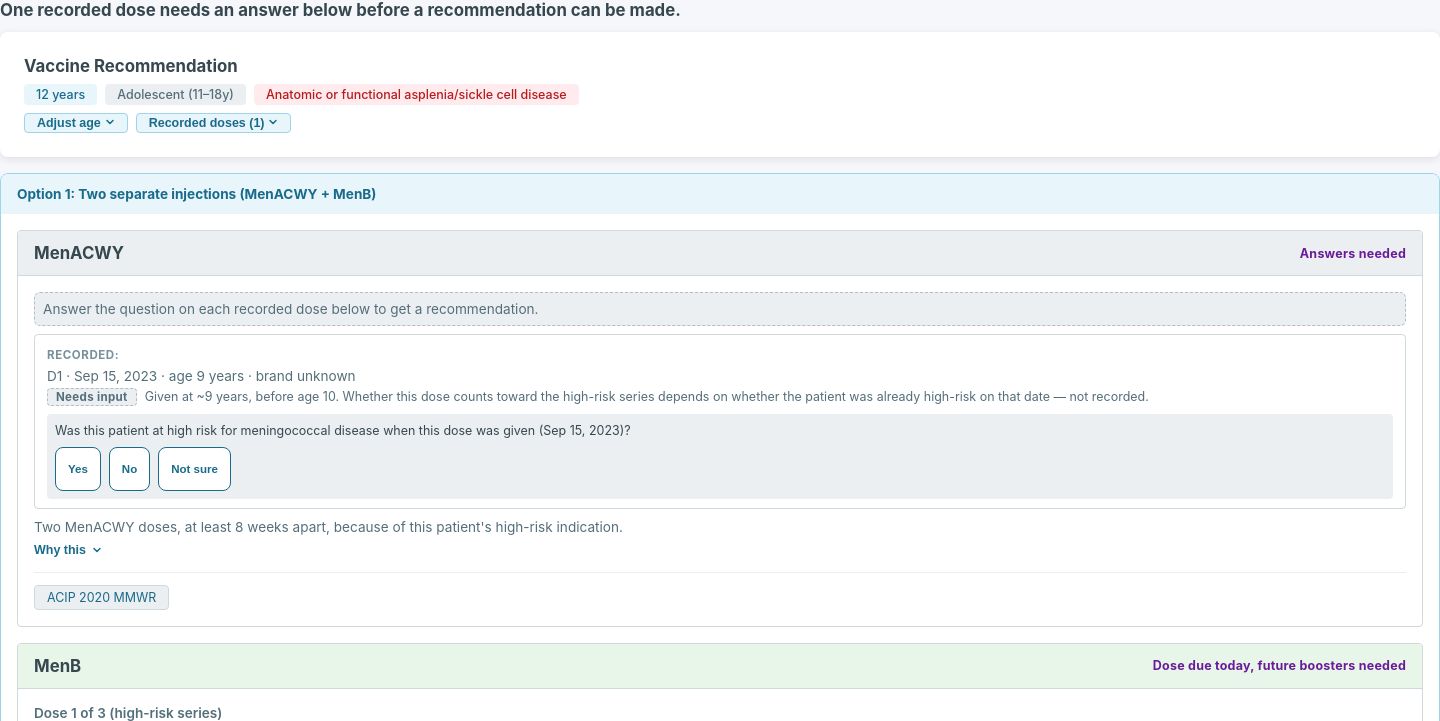
Test case: G2: a risk-at-dose answer stays with its own dose › adding an earlier dose does not hand the answered dose's "yes" to the new one
The image size is (1440, 721).
Expected: the list item with class "rec-progress-dose-row" is shown, [47,367,1393,500]
Click the button "Yes" at (78, 470), box [55,448,101,492]
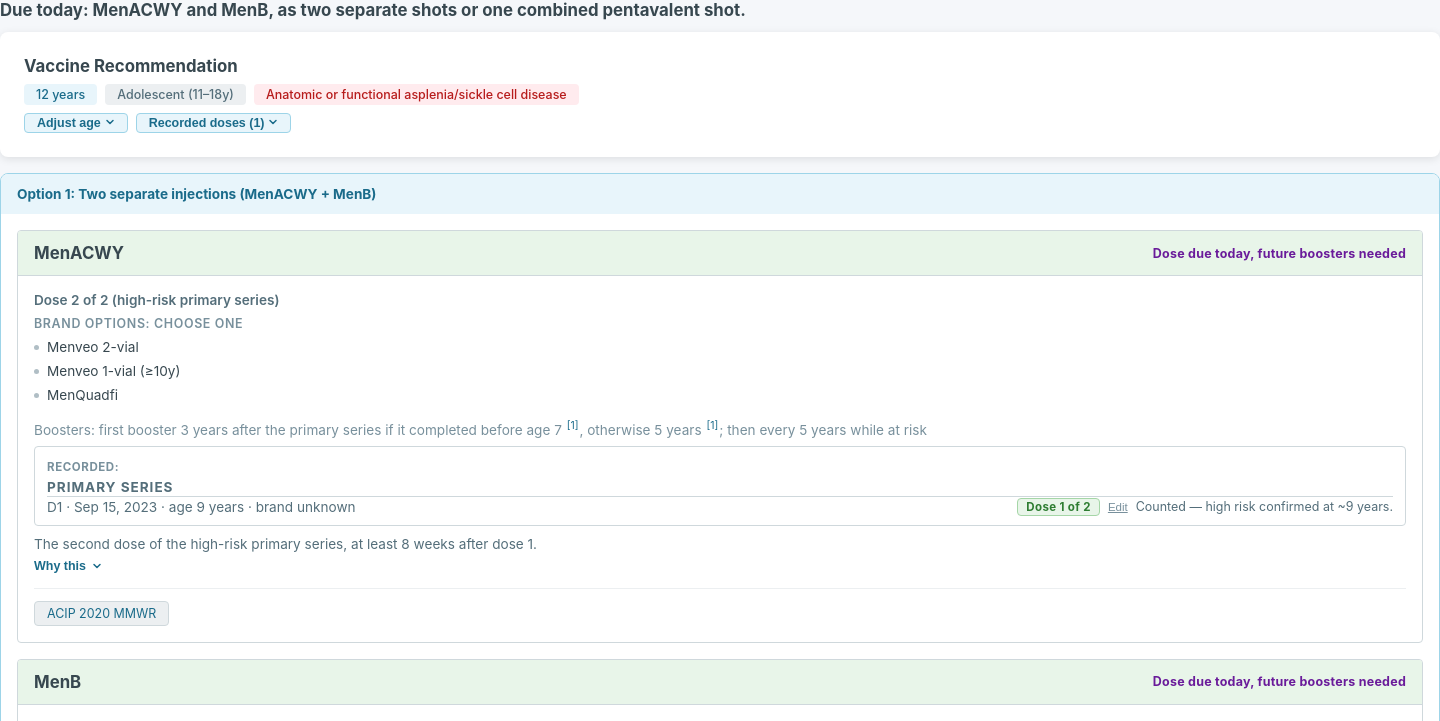
Result: the list item with class "rec-progress-dose-row" shows "high risk confirmed at ~" at [1136,499,1393,514]
Click the button "Recorded doses (1)" at (214, 123), box [136,113,292,133]
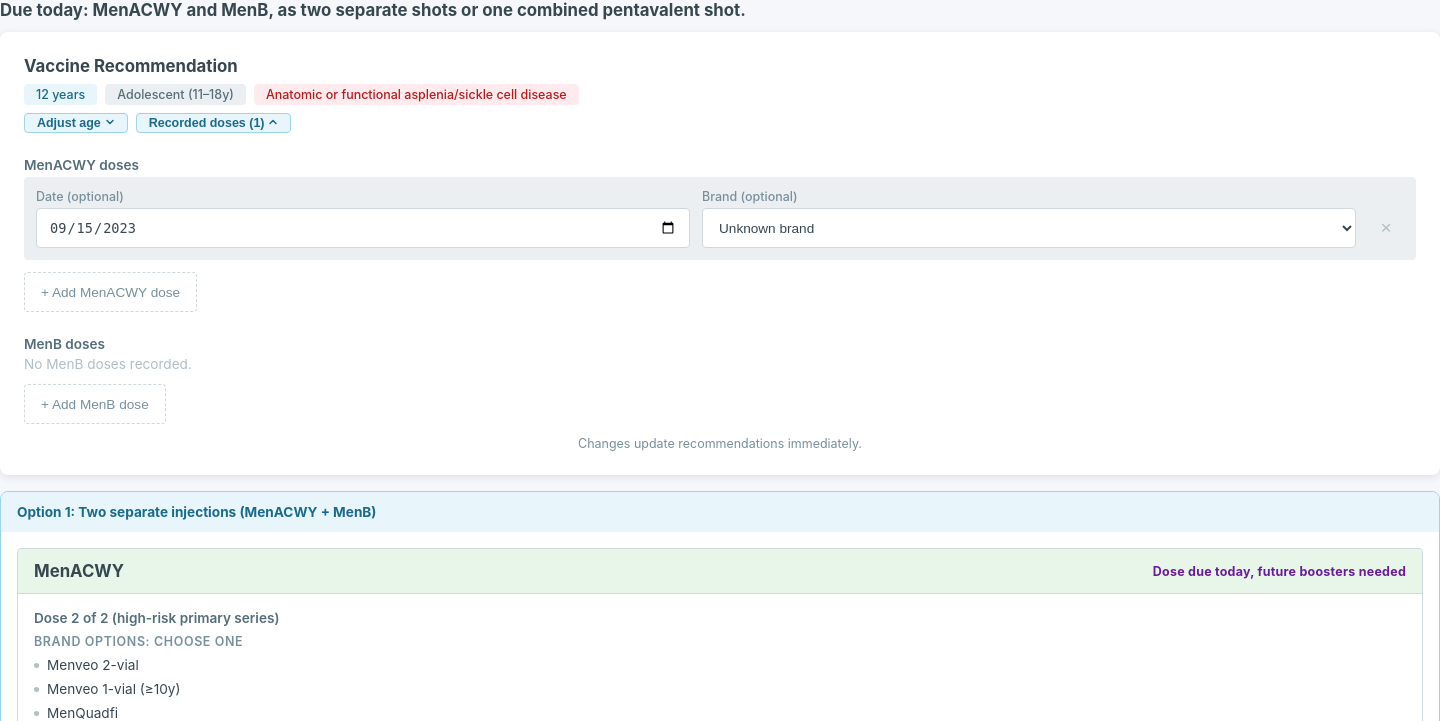
Click the button "+ Add MenACWY dose" at (111, 292), box [24,272,197,312]
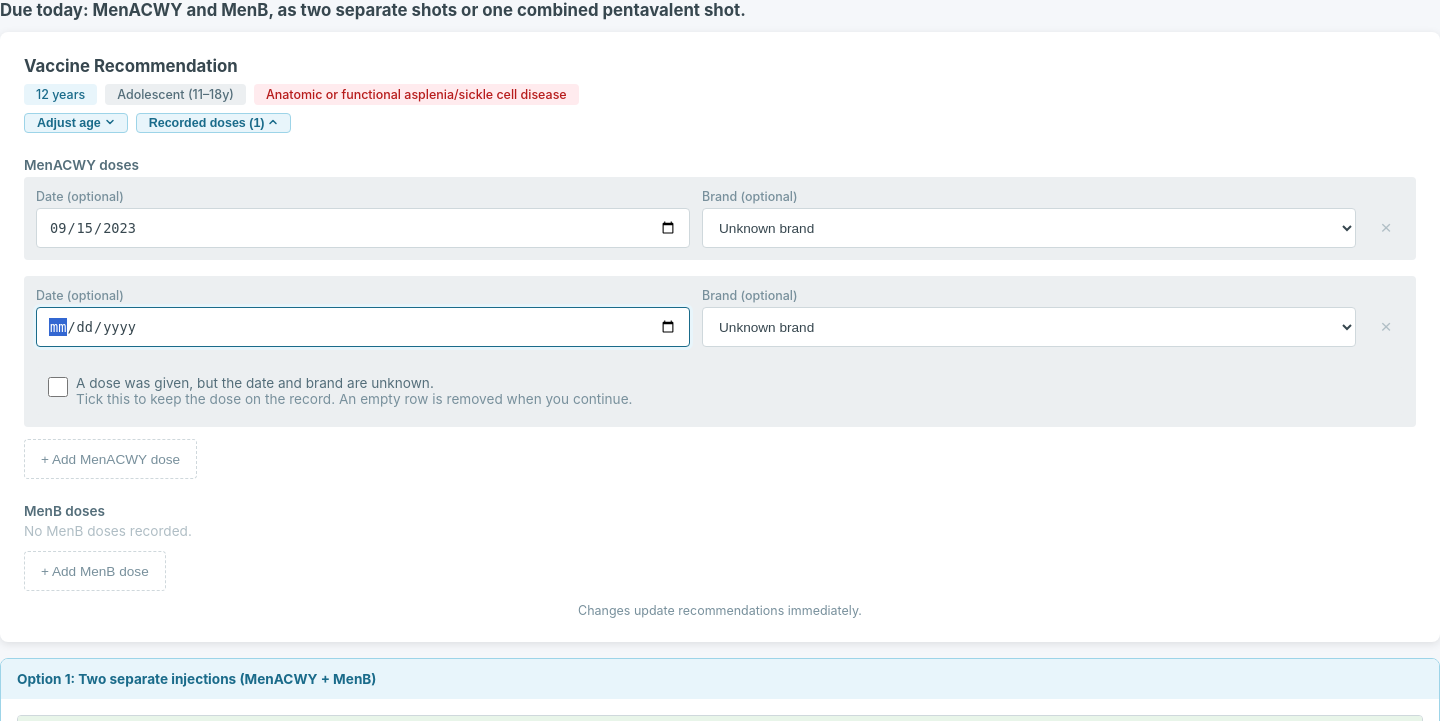
Type "2022-09-15" into the 2nd date field at (363, 327), box [36,307,690,347]
(page scrolled)
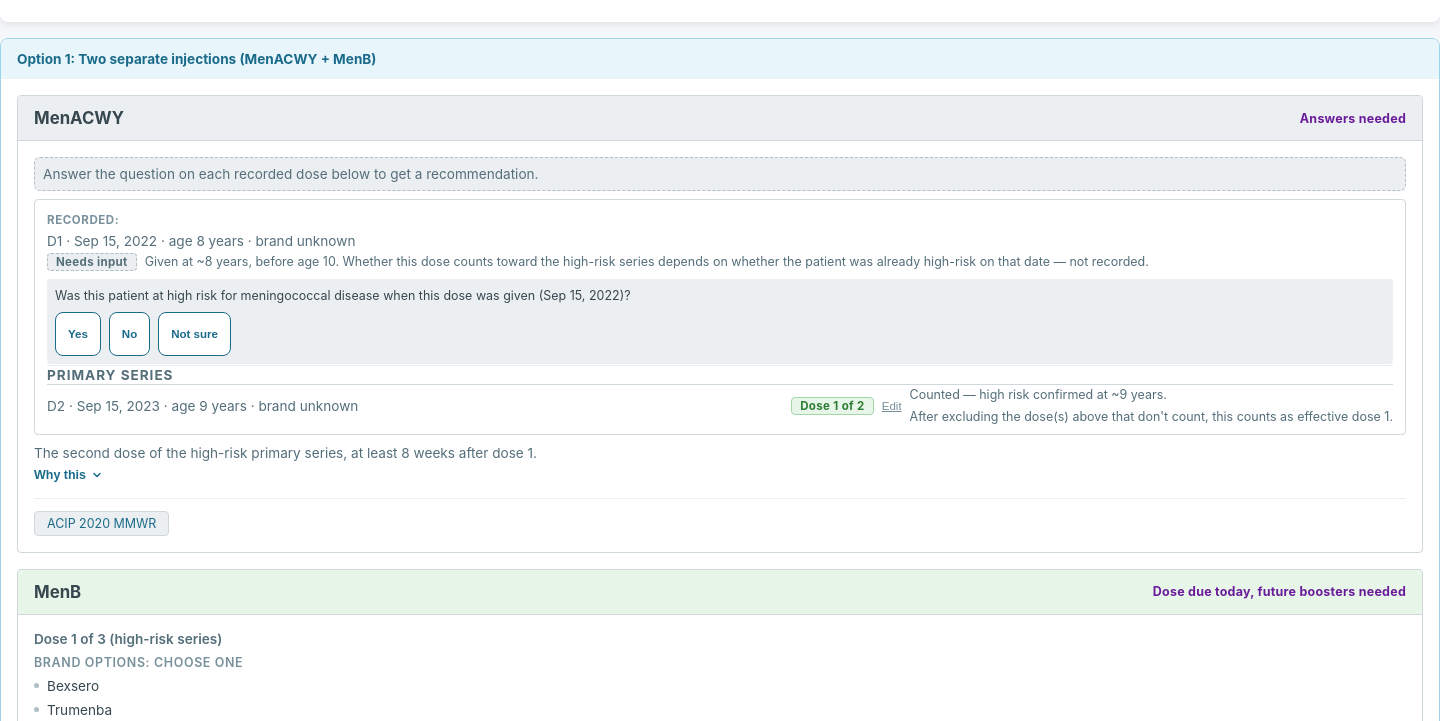
Result: the list item with class "rec-progress-dose-row" shows "high risk confirmed at ~" at [910,388,1167,402]
